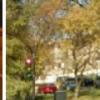traffic lights: (24, 56, 34, 82)
